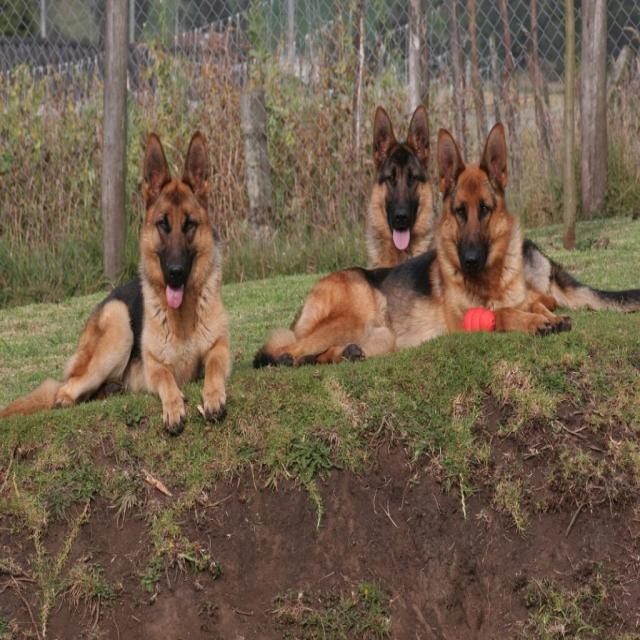GERMAN_SHEPHERD: (250, 113, 570, 384), (18, 129, 248, 457), (355, 99, 640, 314)
